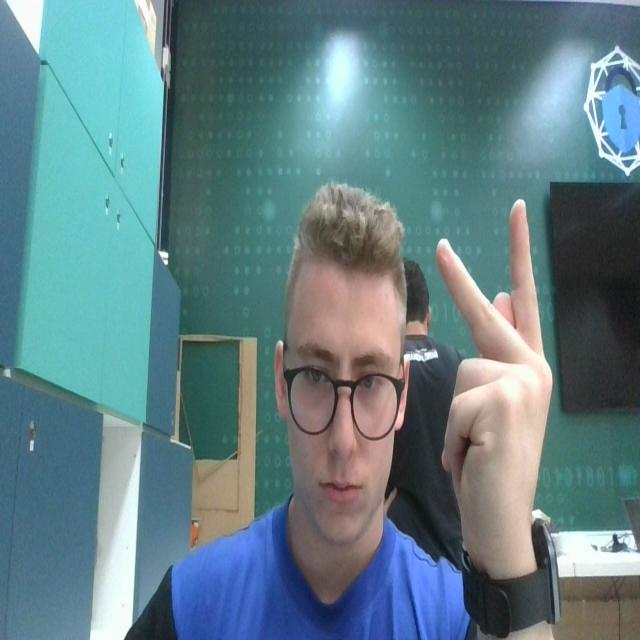K: (433, 185, 553, 560)
